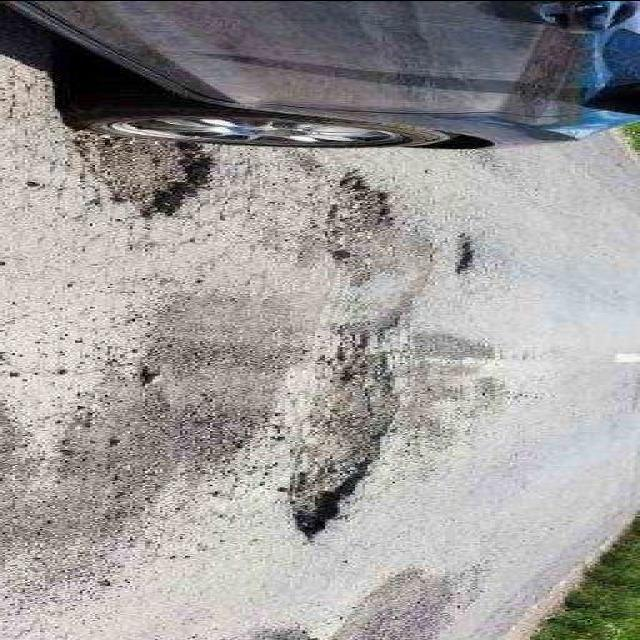lubang: (70, 293, 296, 532), (0, 356, 175, 620), (280, 304, 406, 542), (404, 325, 534, 455), (323, 564, 500, 640), (55, 134, 223, 213), (314, 168, 422, 271), (450, 227, 480, 279)
